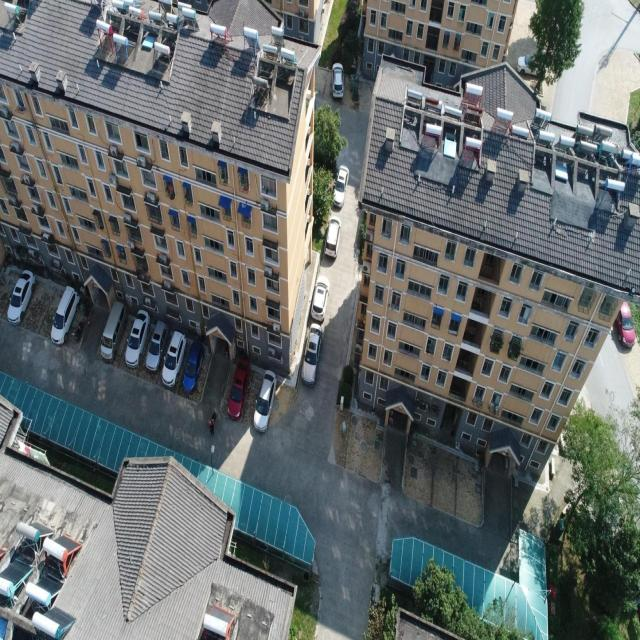p3rson: (208, 418, 214, 436), (211, 410, 216, 421)
